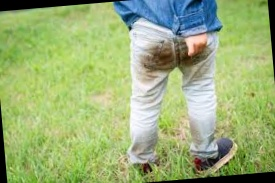earth: (143, 46, 187, 70)
